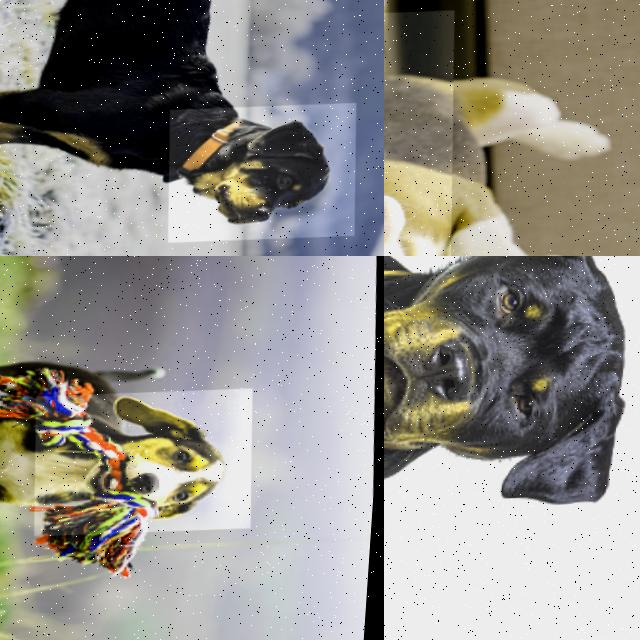beagle: (32, 383, 263, 537), (384, 2, 478, 256)
rottweiler: (384, 256, 640, 527), (168, 98, 368, 243)
